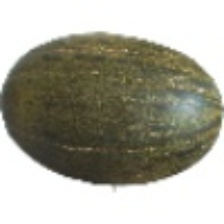honeydew: (20, 34, 199, 221)
